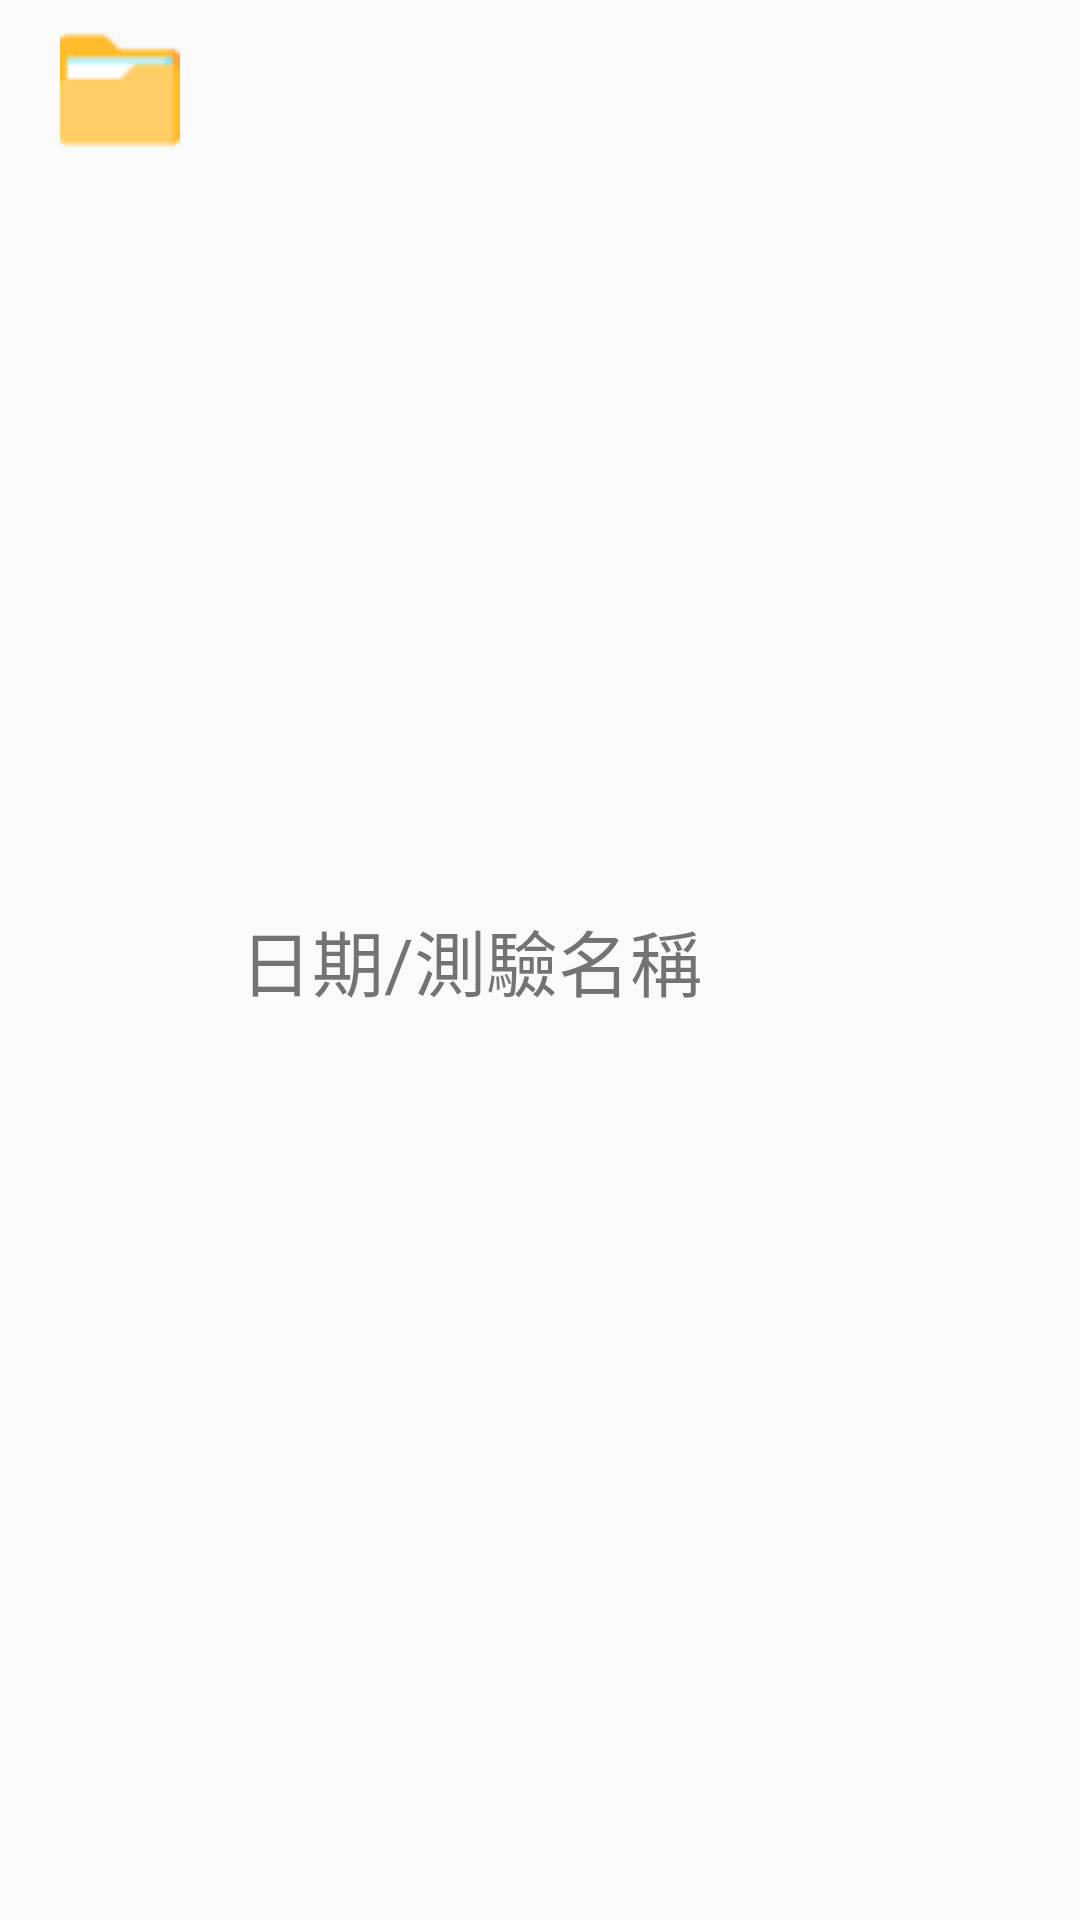

Named icons in this screenshot (1080×1920) and their bounding boxes, (x1, y1, x2, y2):
folder: (60, 33, 180, 147)
